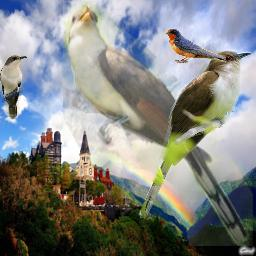Cuckoo: (63, 1, 253, 246), (138, 49, 252, 219), (0, 55, 27, 120)
Swallow: (164, 27, 226, 65)
